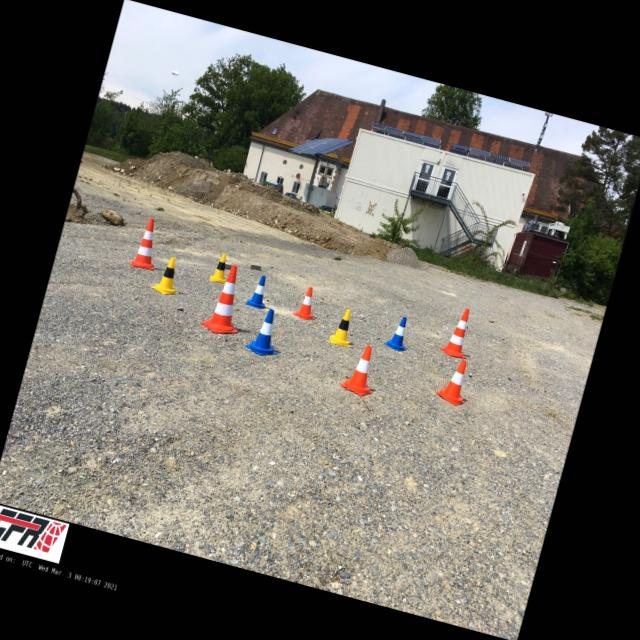blue_cone: (244, 305, 288, 359), (382, 312, 414, 352), (245, 272, 272, 310)
large_orange_cone: (199, 260, 253, 338), (438, 304, 478, 358), (129, 215, 166, 271)
orange_cone: (338, 341, 384, 398), (434, 354, 474, 406), (291, 284, 322, 322)
yellow_cone: (150, 254, 188, 298), (328, 306, 359, 347), (209, 252, 232, 284)
